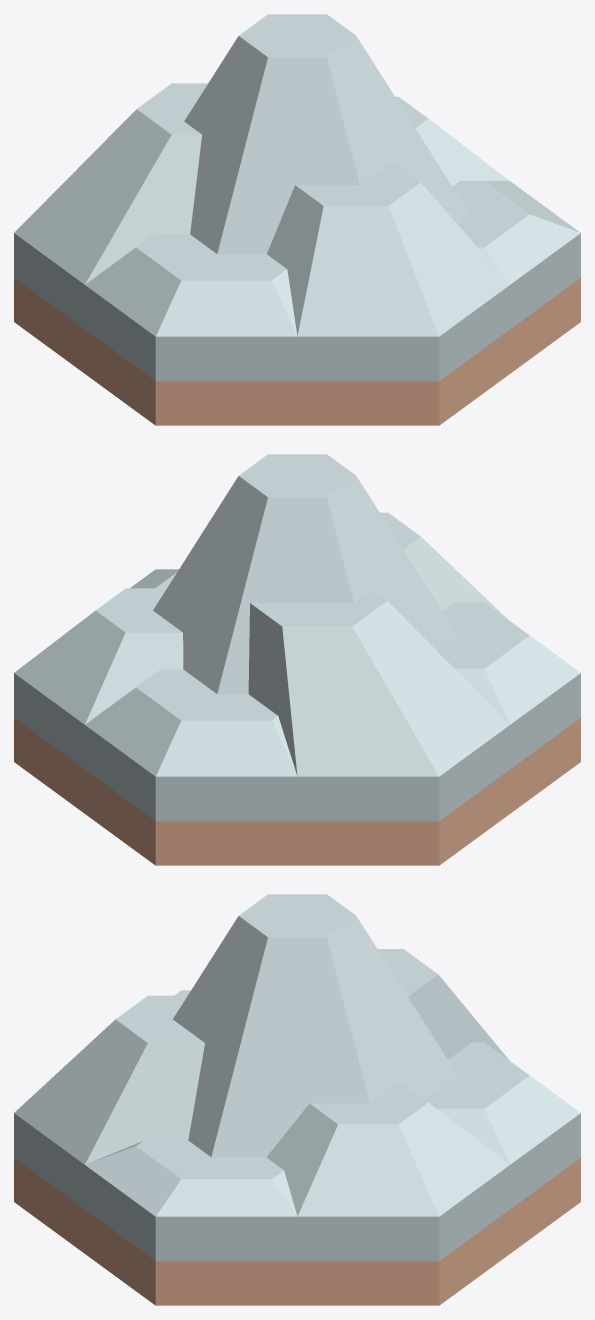
Rendered from stone_hill.glb.
3 views of the same model, one above another, from view 1: azimuth 30°, elevation 25°; view 2: azimuth 150°, elevation 25°; view 3: azimuth 270°, elevation 25° (orthographic).
Parts seen in each view (by area): view 1: stone_hill; view 2: stone_hill; view 3: stone_hill.
Boxes of the visible parts, <box> form: stone_hill: <box>14,14,580,425</box>; stone_hill: <box>14,454,580,865</box>; stone_hill: <box>14,894,580,1305</box>.
Bounding box in the file's own units: 1 × 0.6432 × 1.15.
